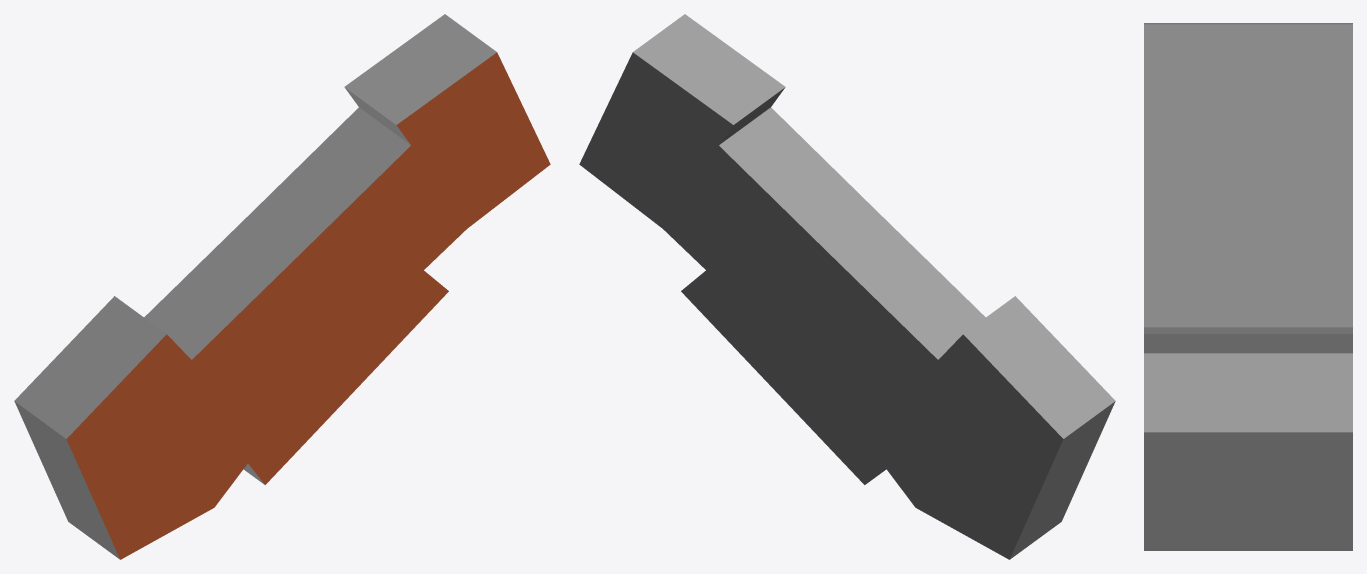
File: construction_5325_assumed_A_Casa_h6m.obj
3 renders of one model, left to right at view 1: azimuth 30°, elevation 25°; view 2: azimuth 150°, elevation 25°; view 3: azimuth 270°, elevation 25°, orthographic. The views are drawn at different scales.
Visible parts, largest first — view 1: construction_5325_assumed_A_Casa; view 2: construction_5325_assumed_A_Casa; view 3: construction_5325_assumed_A_Casa.
Boxes of the visible parts, box(x1,y1,x2,y2) form: construction_5325_assumed_A_Casa: box(14, 14, 550, 559); construction_5325_assumed_A_Casa: box(579, 14, 1115, 559); construction_5325_assumed_A_Casa: box(1144, 23, 1352, 550).
Size of the model in its own units: 32.15 by 26.38 by 6.
